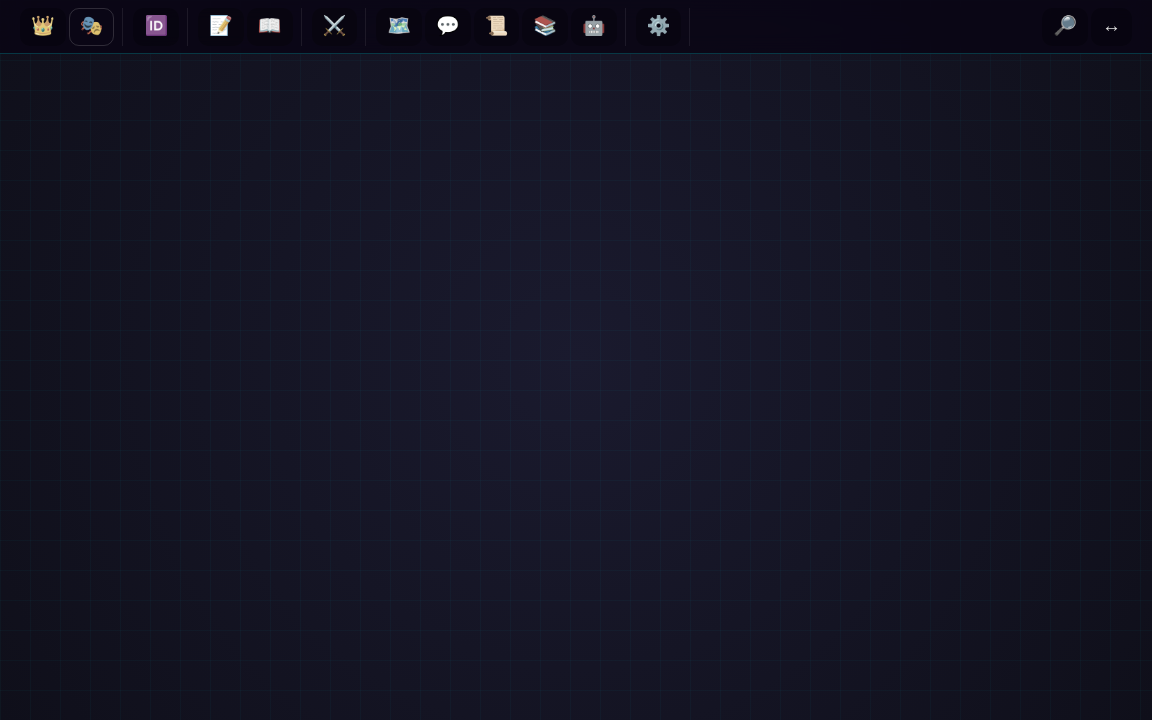
Test: Sidebar - Modo Jogador › clicar de novo desliga e o 👑 volta
This screenshot has width=1152, height=720.
Click the button with class "btn-modo-jogador" at coordinates (92, 26), box [69,8,114,46]
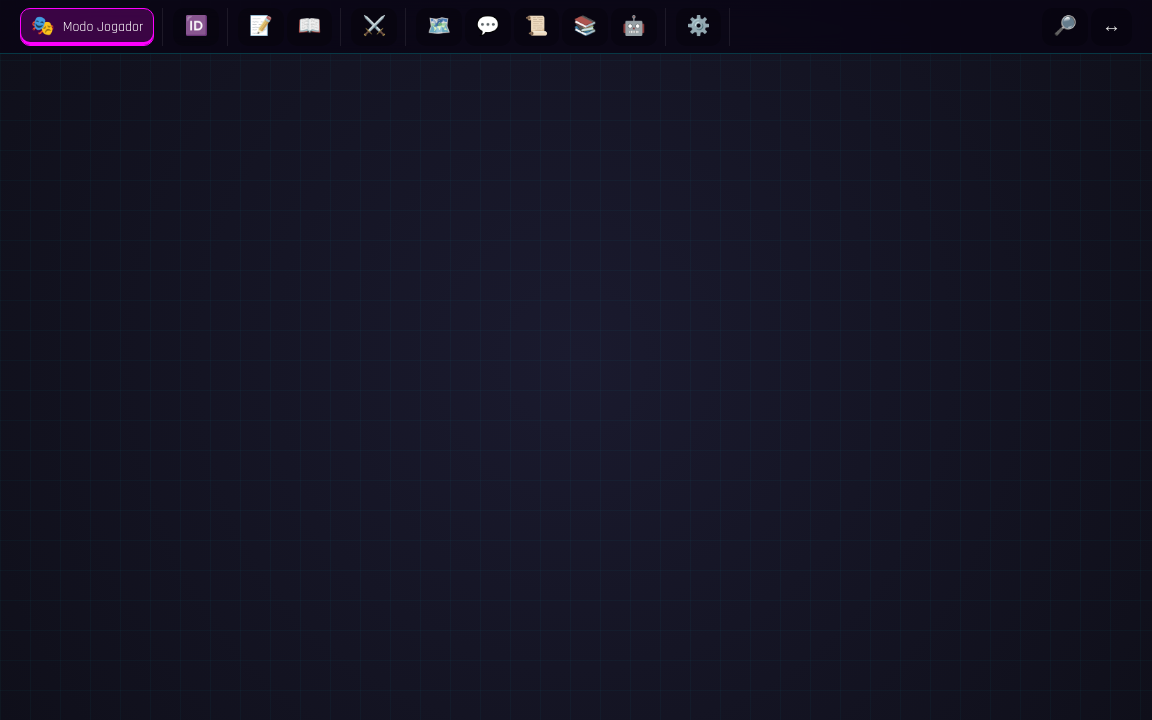
Click the button with class "btn-modo-jogador" at coordinates (87, 26), box [20,8,154,46]
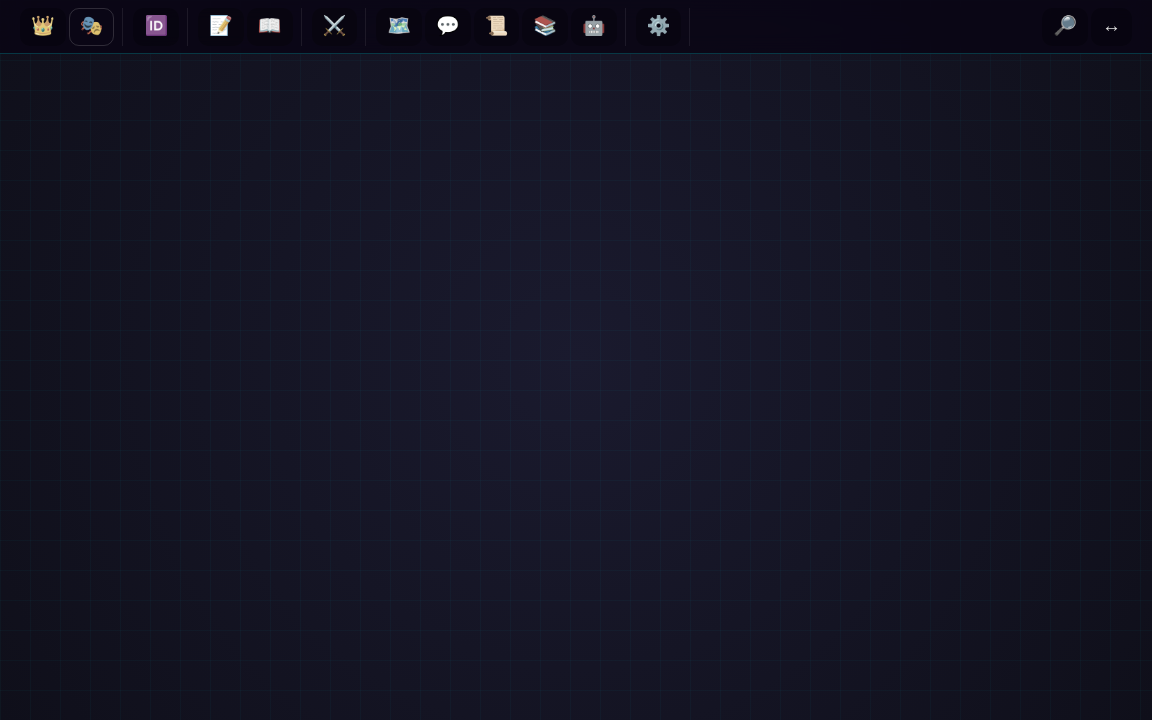
Result: the button with class "btn-macro-mestre" is shown at [20,8,66,46]
